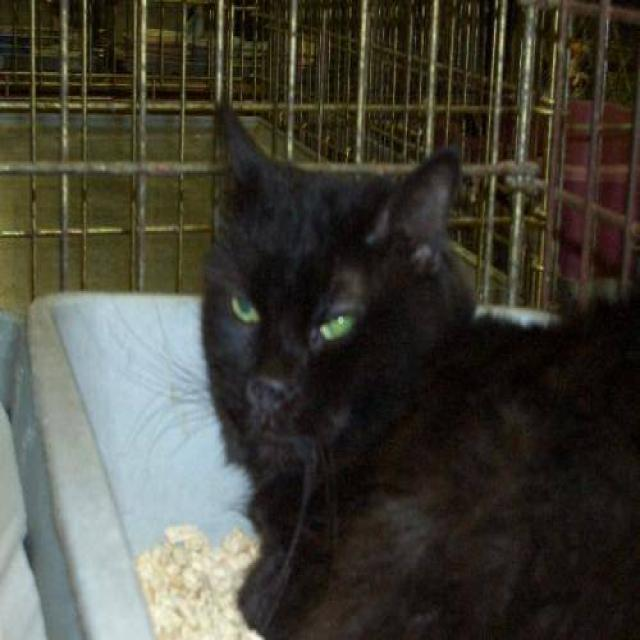cat: (160, 81, 640, 640)
